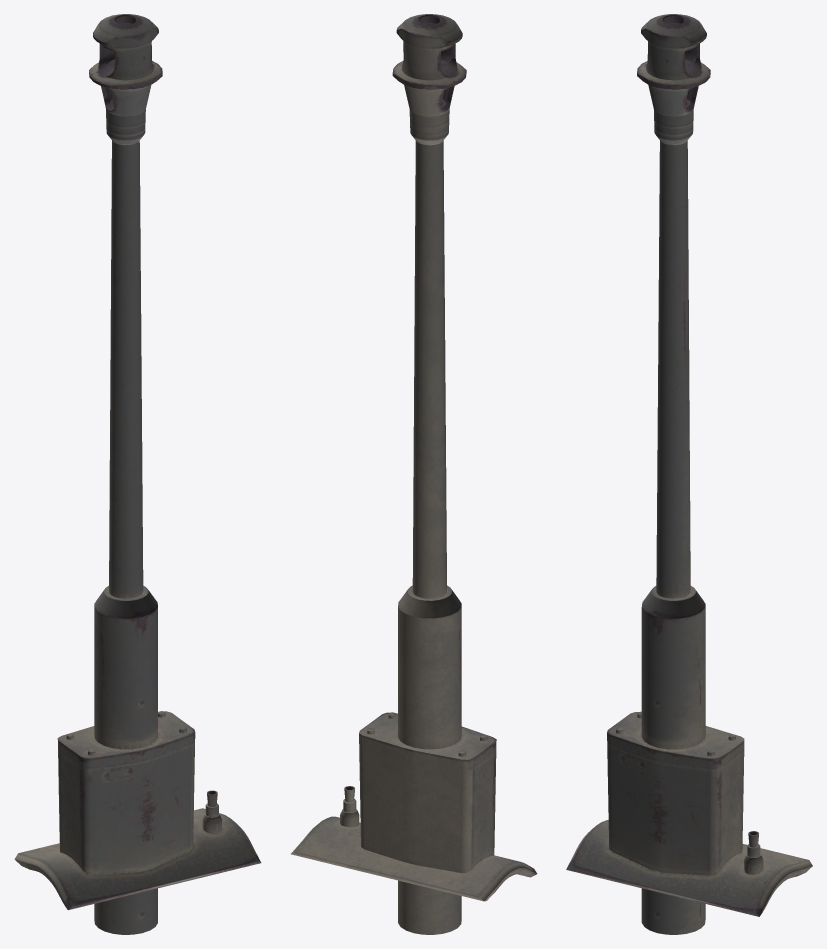
File: Gun_01.glb
3 views of the same model, side by side, from view 1: azimuth 30°, elevation 25°; view 2: azimuth 150°, elevation 25°; view 3: azimuth 330°, elevation 25° (orthographic).
Parts seen in each view (by area): view 1: set_0_group_0; view 2: set_0_group_0; view 3: set_0_group_0.
Boxes of the visible parts, left/top/right/bottom form: set_0_group_0: left=14, top=14, right=261, bottom=934; set_0_group_0: left=291, top=14, right=537, bottom=934; set_0_group_0: left=566, top=14, right=812, bottom=934.
Bounding box in the file's own units: 0.7805 × 3.48 × 0.3871.
1 material, 1 textured.
